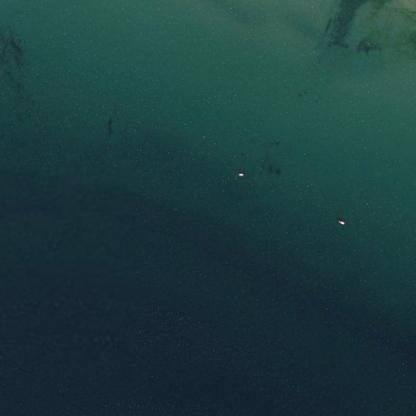ship: (332, 213, 349, 229), (232, 168, 248, 179)
